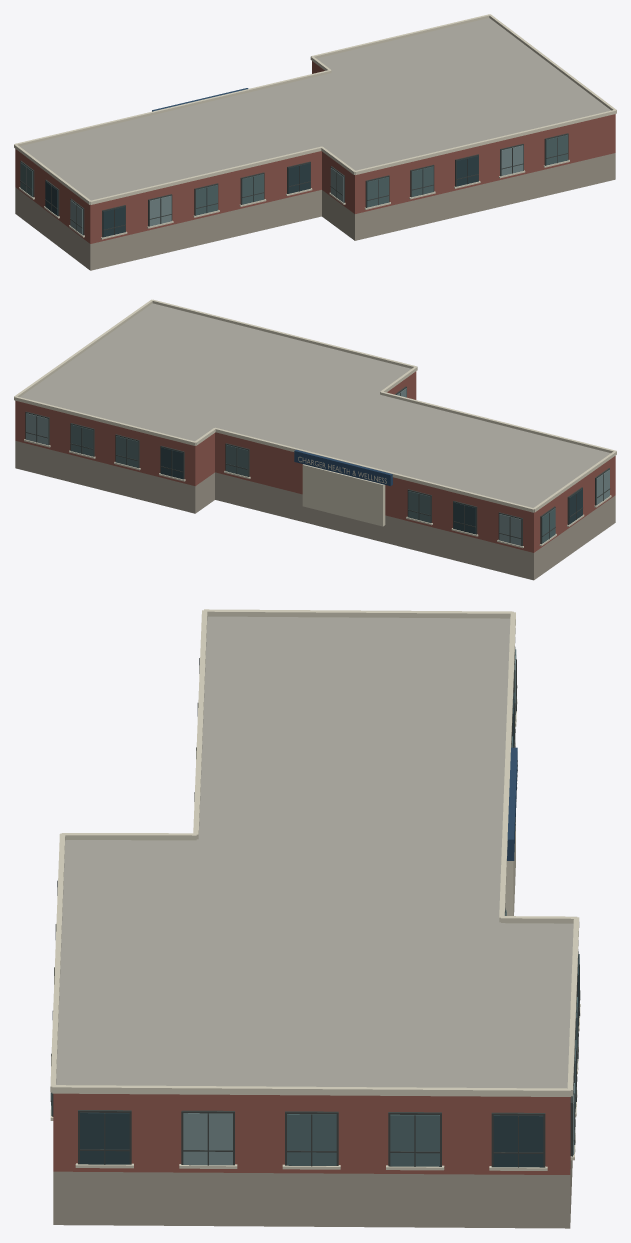
The model's file is charger-health-and-wellness.glb.
3 views of the same model, one above another, from view 1: azimuth 30°, elevation 25°; view 2: azimuth 150°, elevation 25°; view 3: azimuth 270°, elevation 25° (orthographic). The views are drawn at different scales.
Visible parts, largest first — view 1: 313161531 | Roof, 313161531 | Shell and foundation, 313161531 | Facades; view 2: 313161531 | Roof, 313161531 | Shell and foundation, 313161531 | Facades; view 3: 313161531 | Roof, 313161531 | Shell and foundation, 313161531 | Facades.
Boxes of the visible parts, x1,y1,x2,y2 form: 313161531 | Roof: [20, 18, 610, 200]; 313161531 | Shell and foundation: [15, 61, 615, 270]; 313161531 | Facades: [14, 14, 616, 239]; 313161531 | Roof: [20, 303, 610, 507]; 313161531 | Shell and foundation: [15, 371, 615, 580]; 313161531 | Facades: [14, 299, 616, 548]; 313161531 | Roof: [56, 616, 573, 1088]; 313161531 | Shell and foundation: [53, 1093, 572, 1228]; 313161531 | Facades: [50, 609, 580, 1170].
Size of the model in its own units: 37.9 by 5.09 by 17.6.
